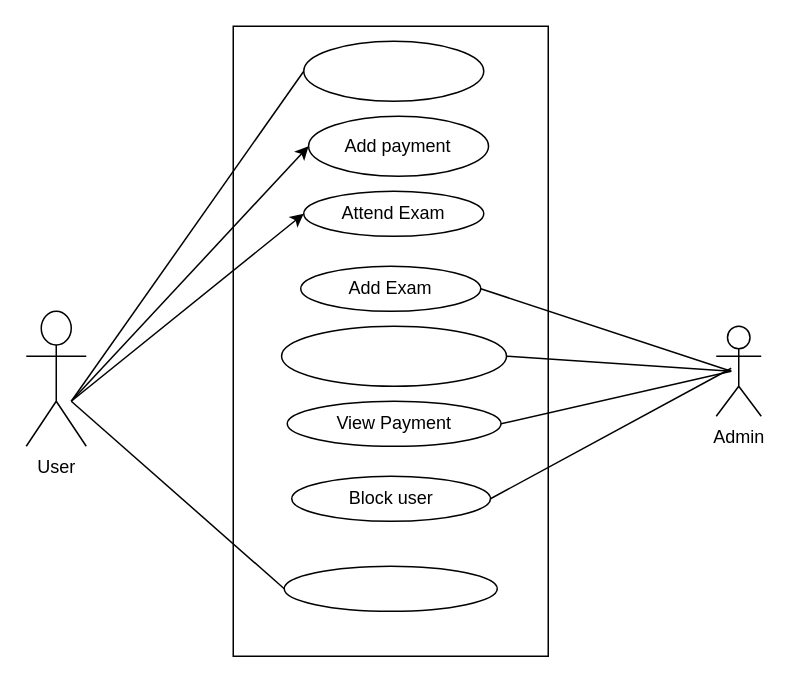
This 791x683 diagram has some shape labels left out. The centre of each missing label's shape, as x and y in pixels:
"Add /UpdateQuestion Papper" belongs at (393,355).
"Registratipon" belongs at (393,70).
"View Performance" belongs at (390,588).
